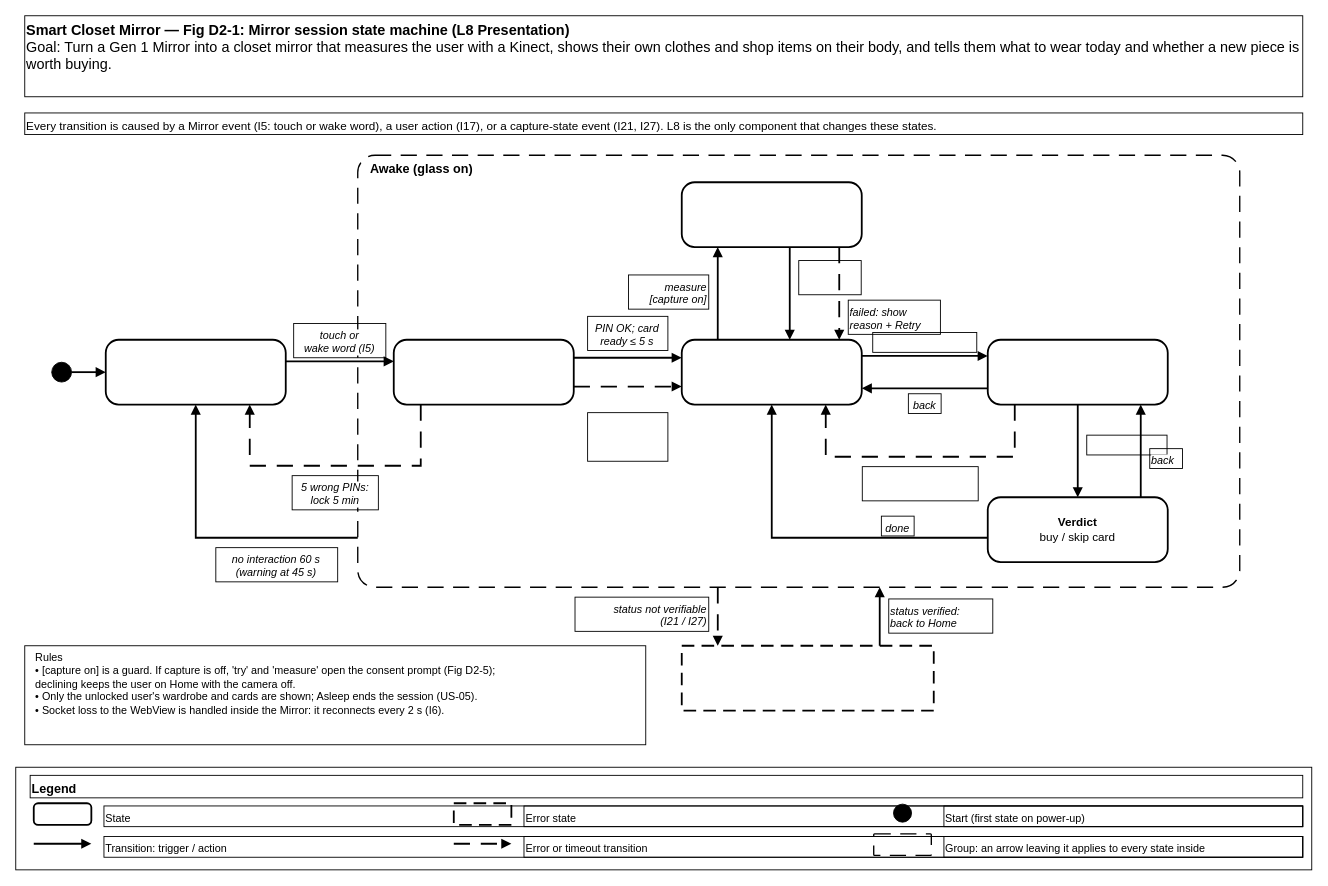
Image size: 1328x886. Some labels were removed from this diagram. Each missing label, with the centre of its shape:
5 s timeout: Home without outfit card: [627,436]
Asleep glass dark, camera off: [195,371]
buy or skip?: [1126,444]
CameraUnknown 'Camera status unknown'; image functions blocked: [807,677]
done (I8) or cancel: [829,277]
Home today's outfit, menu: [771,371]
Measuring T-pose guide (Fig D2-2): [771,214]
stream lost: toast 'try-on paused': [919,483]
try [capture on]: [924,342]
TryOn live video (I4): [1077,371]
Waking pick profile, enter PIN: [483,371]
